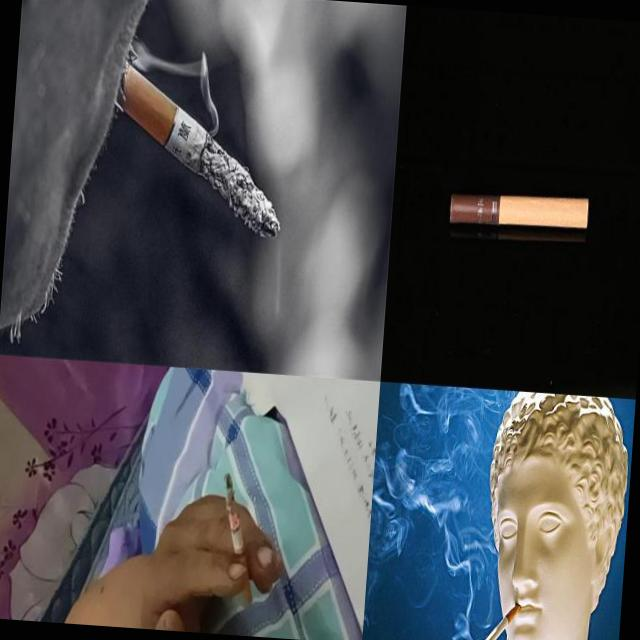cigarette: (102, 58, 290, 240), (446, 188, 590, 235), (216, 474, 262, 608), (472, 599, 521, 640)
